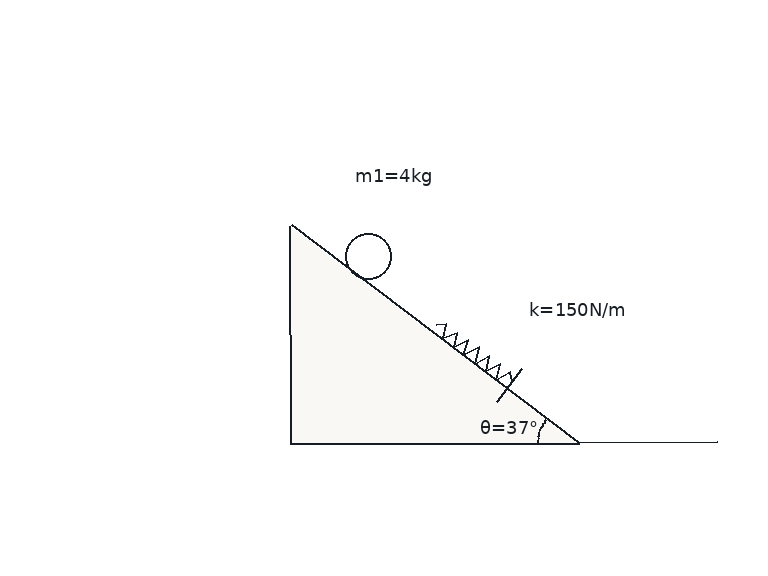ball: (343, 231, 393, 281)
ramp: (288, 224, 580, 445)
spring: (435, 322, 514, 384)
